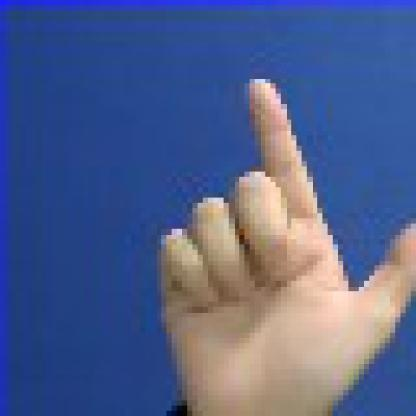seven: (135, 62, 411, 411)
